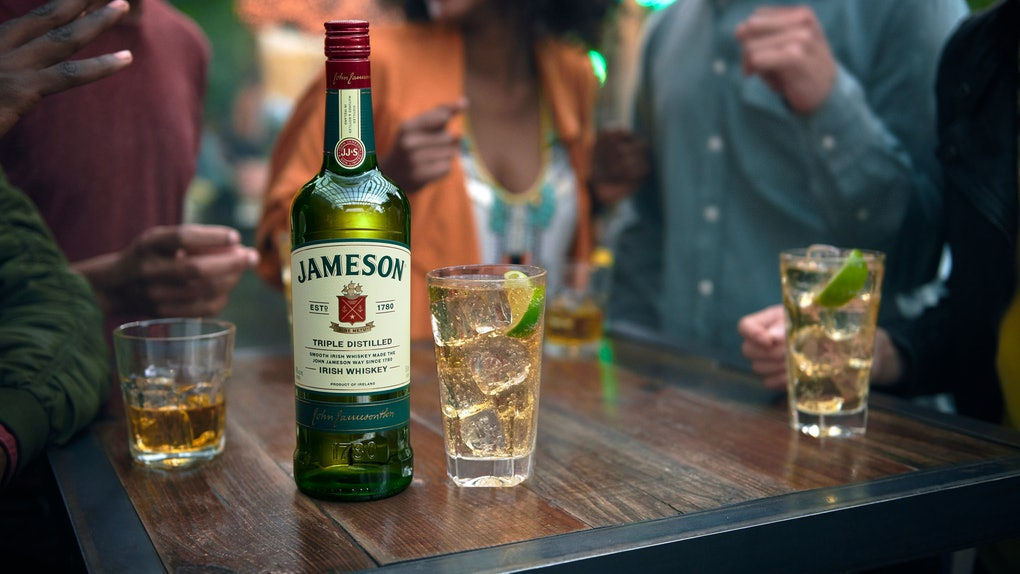Jameson: (282, 17, 418, 506)
